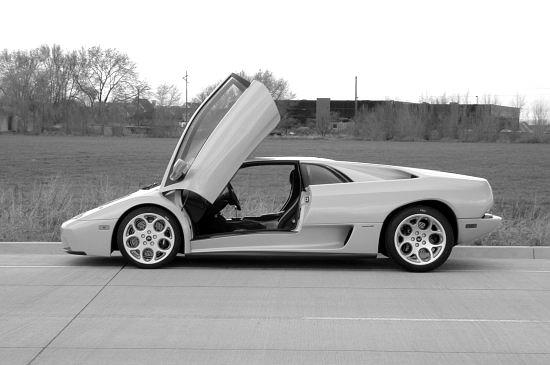car: (57, 69, 506, 276)
